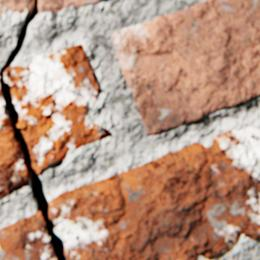brick: (112, 0, 259, 133)
broken_brick: (49, 126, 259, 259), (4, 44, 110, 172), (0, 77, 28, 196), (0, 211, 57, 259), (37, 0, 103, 12), (0, 0, 35, 15)
crack: (0, 0, 66, 259), (138, 209, 147, 226)
